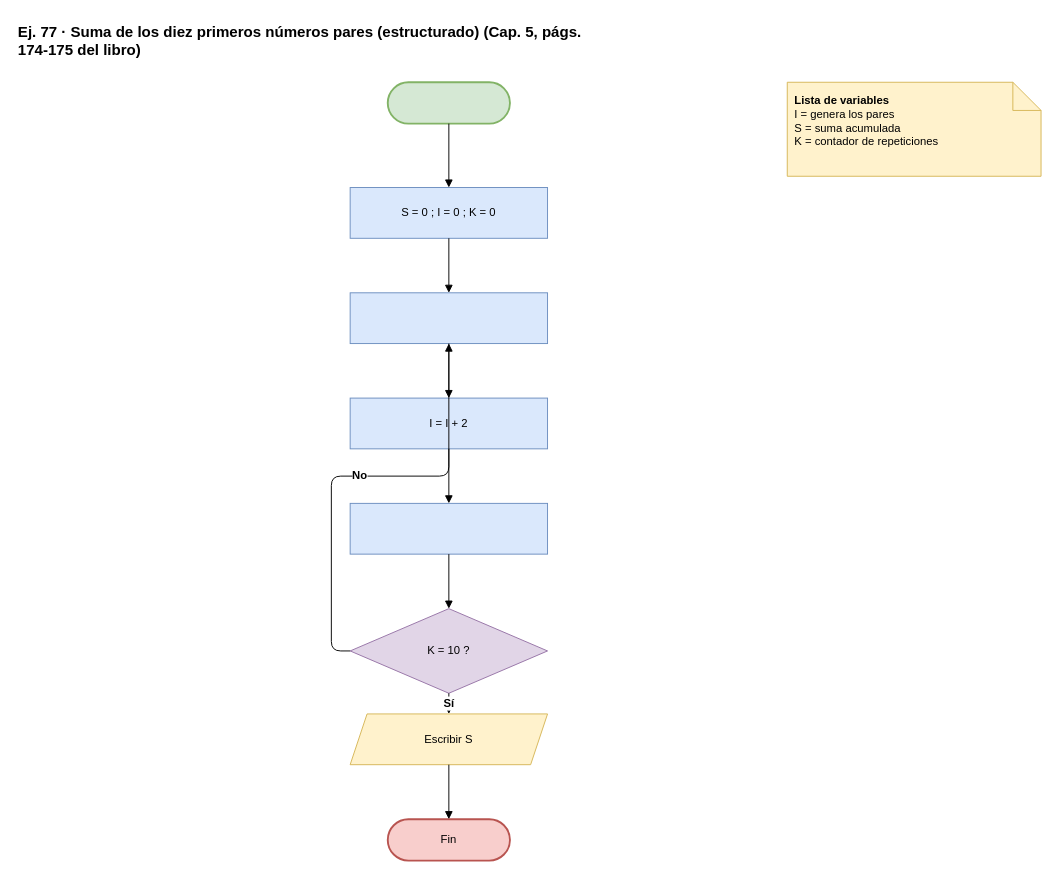
Some shapes in this 1058 by 877 pixel diagram are drawn without their labels. The box of each missing label's shape, as (x1, y1, x2, y2) in pixels:
Inicio: (386, 81, 510, 124)
K = K + 1: (349, 292, 548, 344)
S = S + I: (349, 502, 548, 554)
